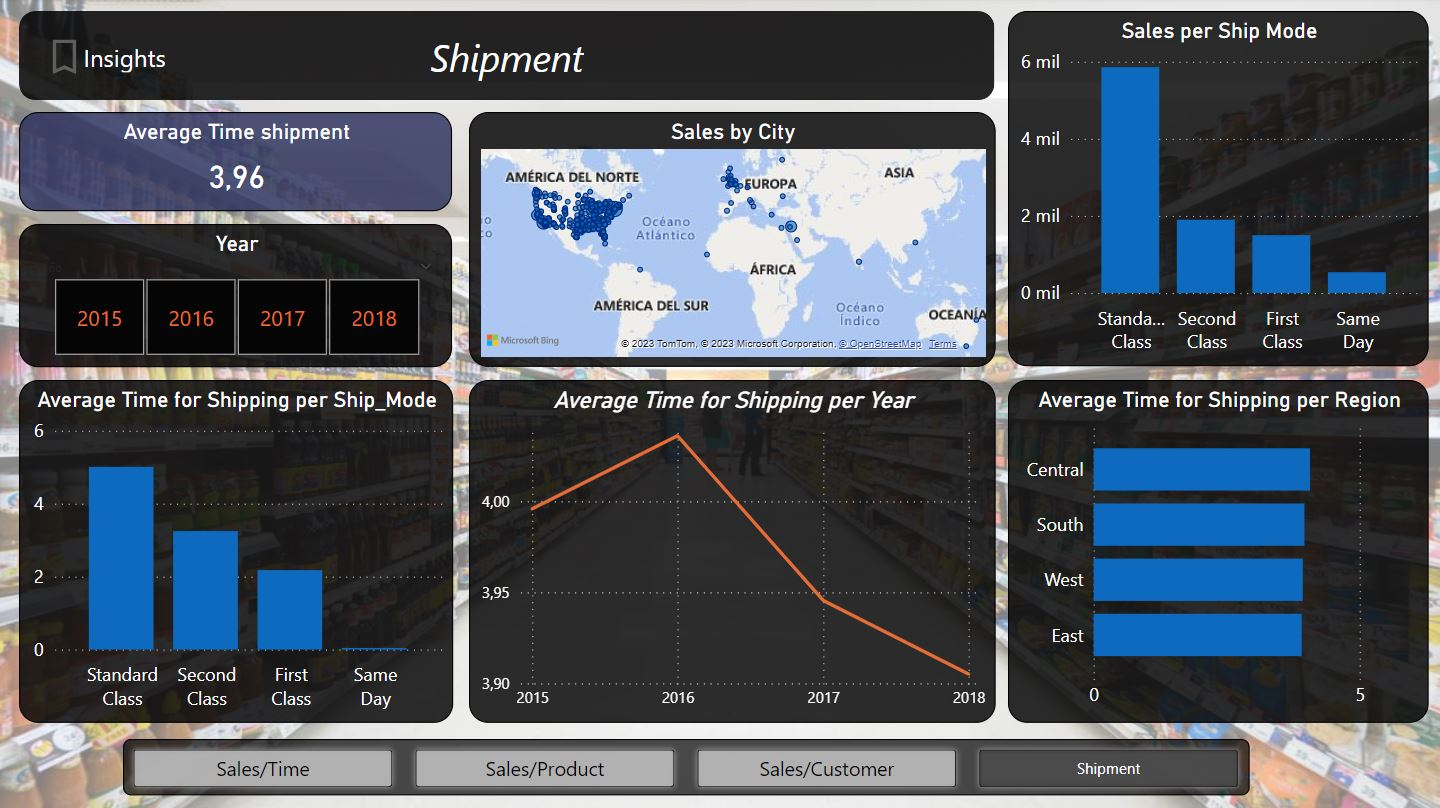

Layout of this report page (visuals, bound fields, positions):
{"tool":"powerbi","page":{"name":"Shipment","canvas":[1280,720],"ordinal":3},"visuals":[{"type":"columnChart","title":"Average Time for Shipping per Ship_Mode","fields":{"Category":["superstore_etl.Ship_Mode"],"Y":["Avg(superstore_etl.time_ship)"]},"box":[18.6,338.7,384.8,304.1],"z":0},{"type":"map","title":"Sales by City","fields":{"Category":["superstore_etl.City"],"Size":["CountNonNull(superstore_etl.Sales)"]},"box":[417.6,100.8,466.6,226.1],"z":1000},{"type":"columnChart","title":"Sales per Ship Mode","fields":{"Category":["superstore_etl.Ship_Mode"],"Y":["CountNonNull(superstore_etl.Sales)"]},"box":[895.7,11.5,373,315.4],"z":2000},{"type":"pageNavigator","box":[110.9,656.6,999.4,50.4],"z":3000},{"type":"clusteredBarChart","title":"Average Time for Shipping per Region","fields":{"Category":["superstore_etl.Region"],"Y":["Avg(superstore_etl.time_ship)"]},"box":[895.6,338.7,373.3,304.1],"z":4000},{"type":"slicer","title":"Year","fields":{"Values":["superstore_etl.Order_Date.Variación.Jerarquía de fechas.Año"]},"box":[18.7,200.2,384.5,126.7],"z":5000},{"type":"lineChart","title":"Average Time for Shipping per Year","fields":{"Y":["Avg(superstore_etl.time_ship)"],"Category":["superstore_etl.Order_Date.Variación.Jerarquía de fechas.Año"]},"box":[417.6,338.4,466.6,303.8],"z":6000},{"type":"card","title":"Average Time shipment","fields":{"Values":["Avg(superstore_etl.time_ship)"]},"box":[18.7,100.8,384.5,87.8],"z":7000},{"type":"shape","box":[18.7,11.5,865.4,79.2],"z":8000},{"type":"actionButton","title":"Insights","box":[38.9,31.7,113.8,40.3],"z":9000}]}

Visuals, with their boxes in screenshot pixels (x1, y1, x2, y2), scaled from the page's 1280x720 canvas onto the 1440x808 screenshot:
"Average Time for Shipping per Ship_Mode" columnChart: 21, 380, 454, 721
"Sales by City" map: 470, 113, 995, 367
"Sales per Ship Mode" columnChart: 1008, 13, 1427, 367
pageNavigator: 125, 737, 1249, 793
"Average Time for Shipping per Region" clusteredBarChart: 1008, 380, 1428, 721
"Year" slicer: 21, 225, 454, 367
"Average Time for Shipping per Year" lineChart: 470, 380, 995, 721
"Average Time shipment" card: 21, 113, 454, 212
shape: 21, 13, 995, 102
"Insights" actionButton: 44, 36, 172, 81
